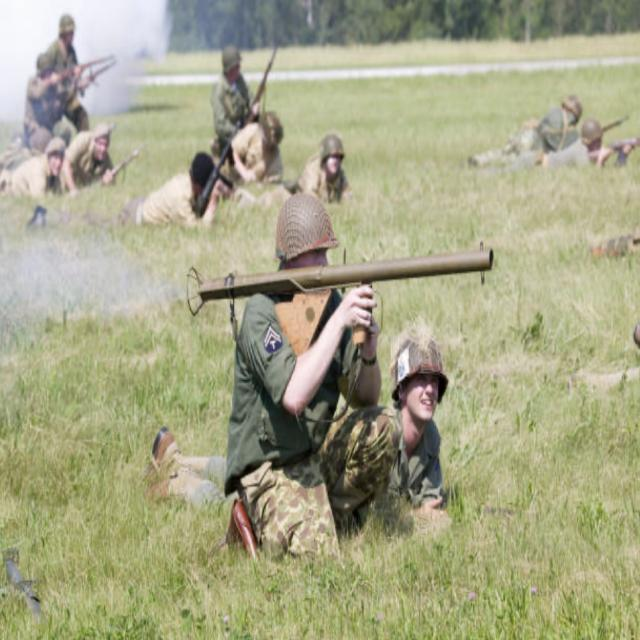bazooka: (187, 247, 497, 323)
